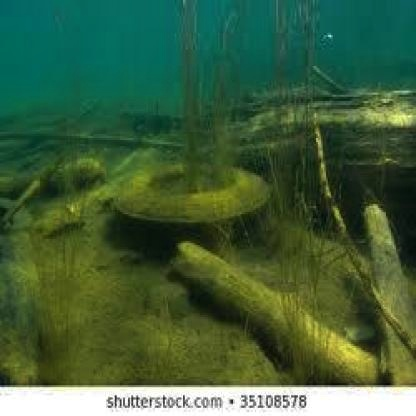tire: (114, 163, 264, 245)
